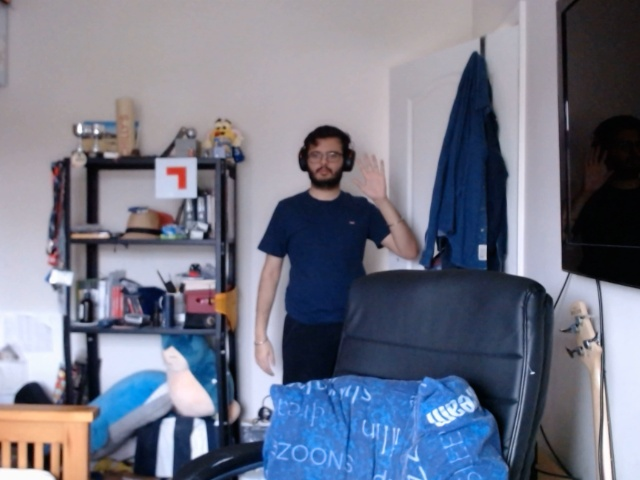Hello: (353, 151, 395, 205)
